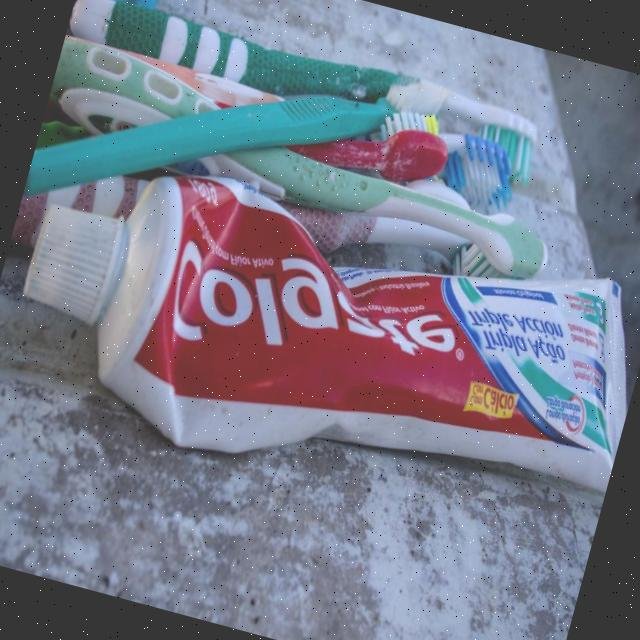Toothpaste: (0, 127, 640, 558)
